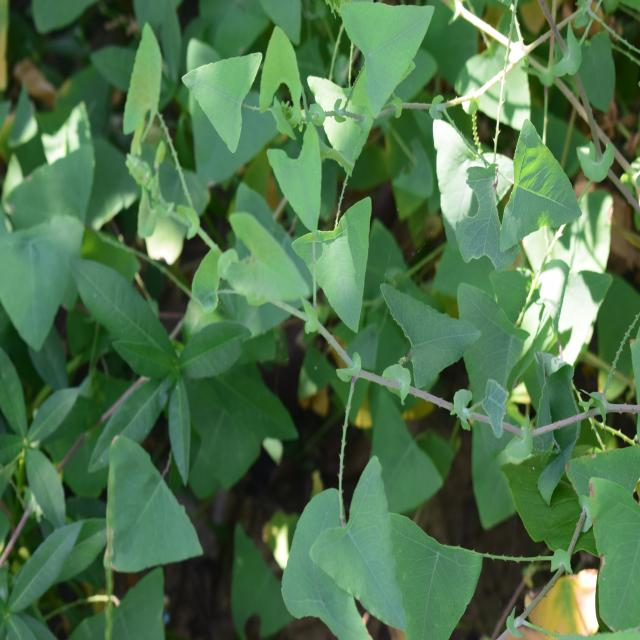Asiatic_Smartweed: (235, 128, 474, 412), (184, 1, 446, 167), (266, 472, 484, 628), (0, 153, 91, 353)
